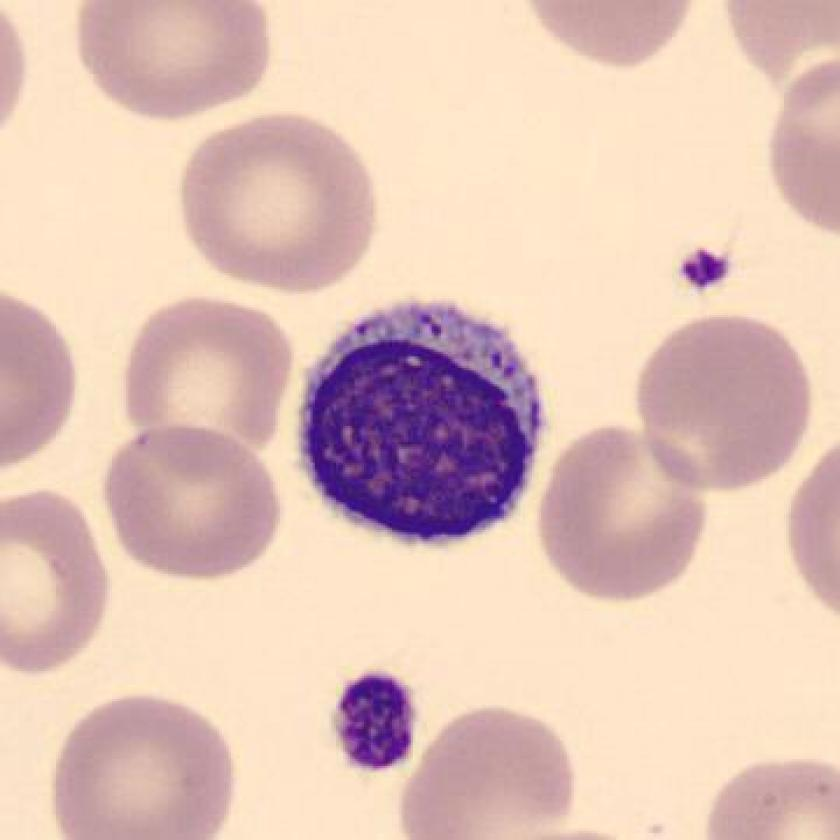lymphocyte: (283, 286, 561, 556)
